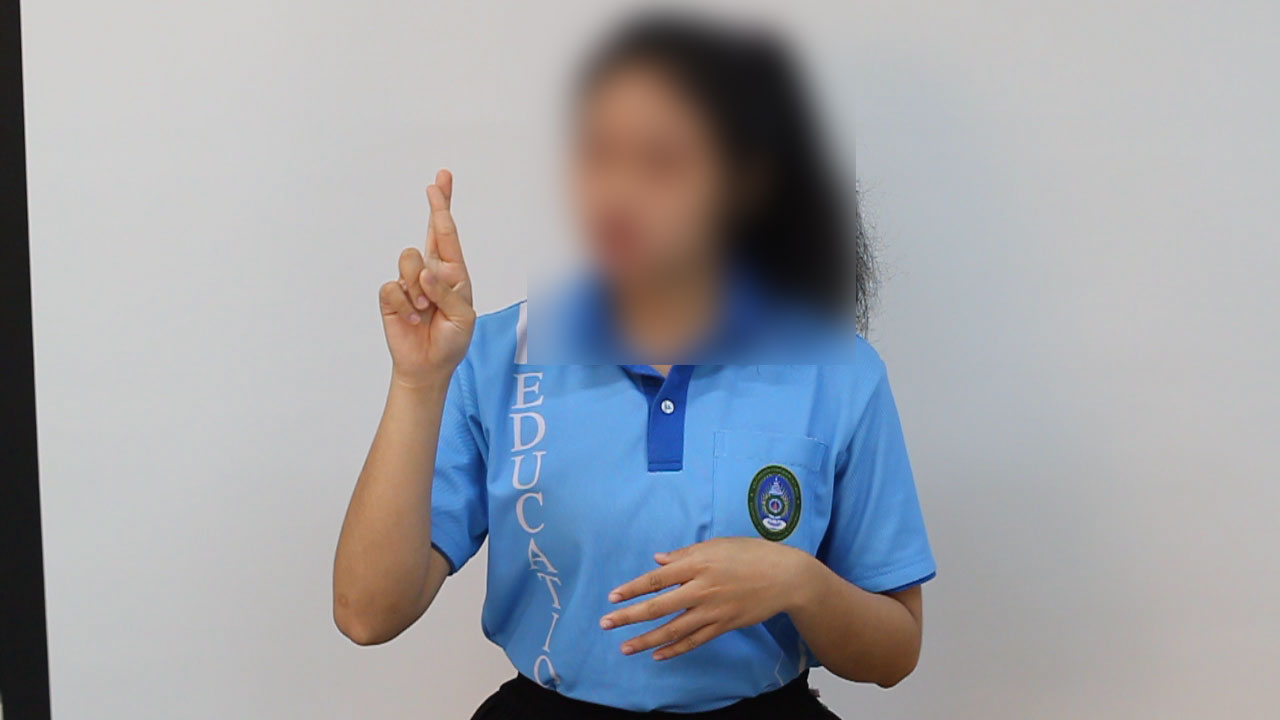rao: (360, 161, 494, 400)
